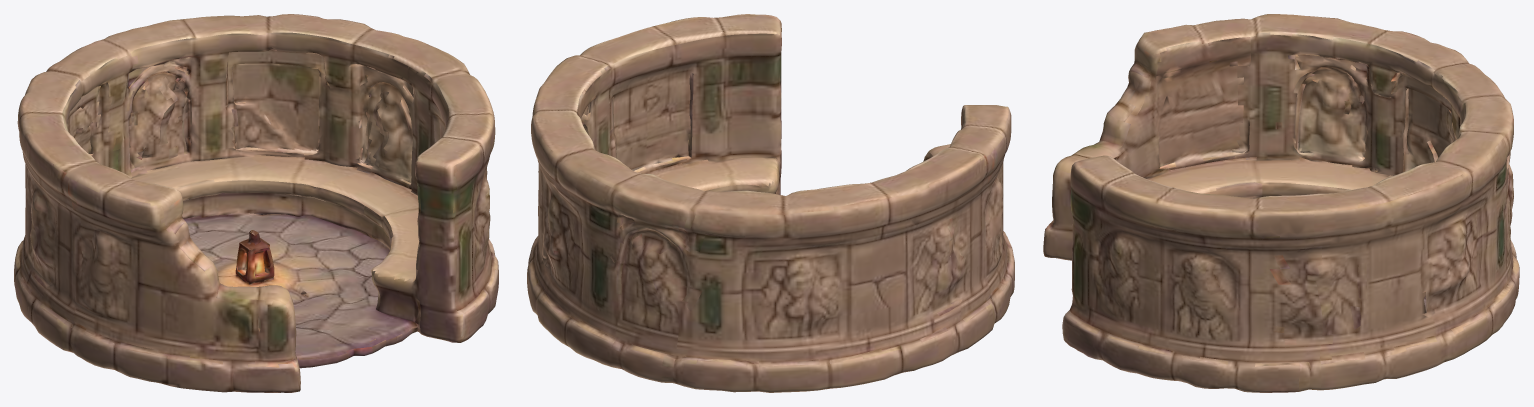
File: sanctuary_01.glb
3 renders of one model, left to right at view 1: azimuth 30°, elevation 25°; view 2: azimuth 150°, elevation 25°; view 3: azimuth 270°, elevation 25°, orthographic.
Parts seen in each view (by area): view 1: sanctuary_01_mesh_01; view 2: sanctuary_01_mesh_01; view 3: sanctuary_01_mesh_01.
Boxes of the visible parts, x1=… form: sanctuary_01_mesh_01: x1=14, y1=14, x2=498, y2=392; sanctuary_01_mesh_01: x1=527, y1=14, x2=1014, y2=392; sanctuary_01_mesh_01: x1=1043, y1=14, x2=1519, y2=392.
Bounding box in the file's own units: 1.91 × 0.7867 × 1.89.
Materials: 1 (1 with a texture image).
